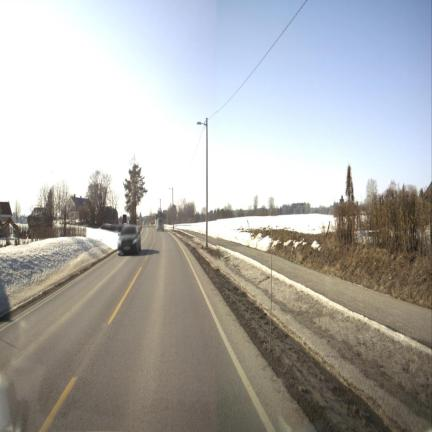Road: (0, 228, 312, 430)
